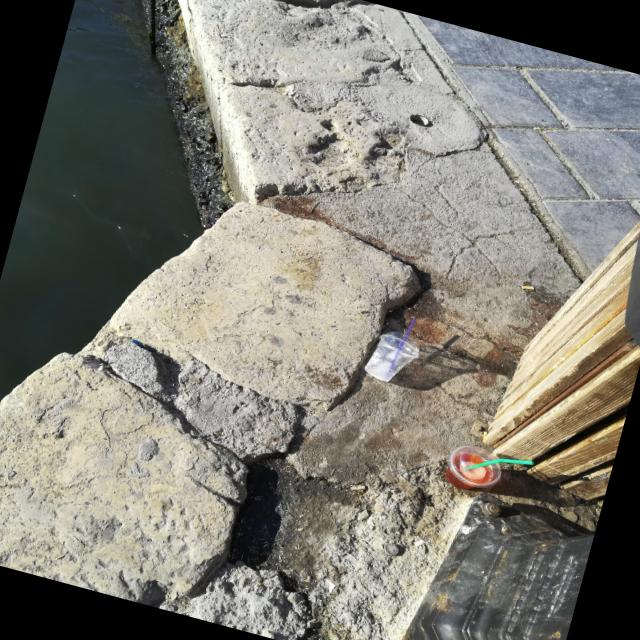less trash: (445, 445, 532, 490), (364, 318, 419, 382)
